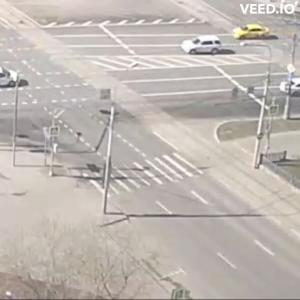car: (182, 36, 227, 56), (234, 24, 273, 42), (1, 67, 19, 89), (280, 81, 300, 98)
